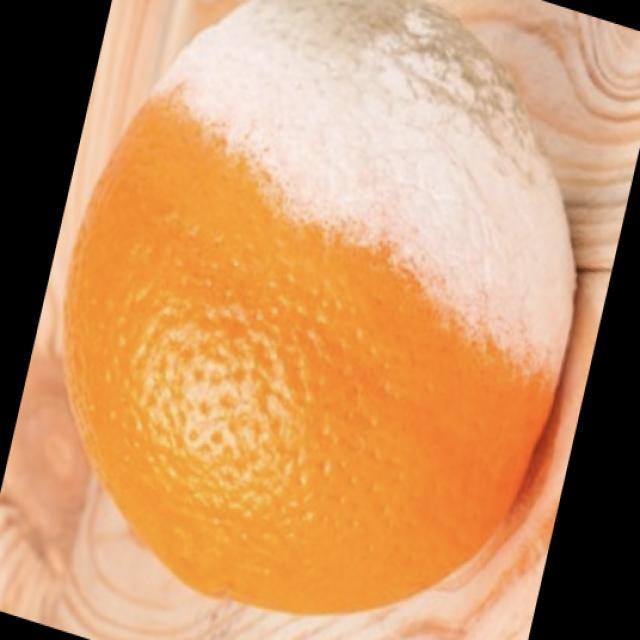sedikit-busuk: (66, 0, 565, 612)
